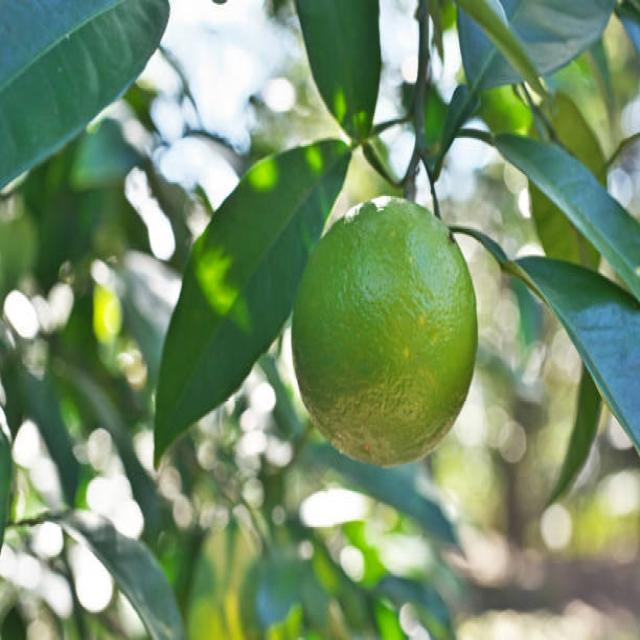Unripe: (292, 191, 479, 468)
